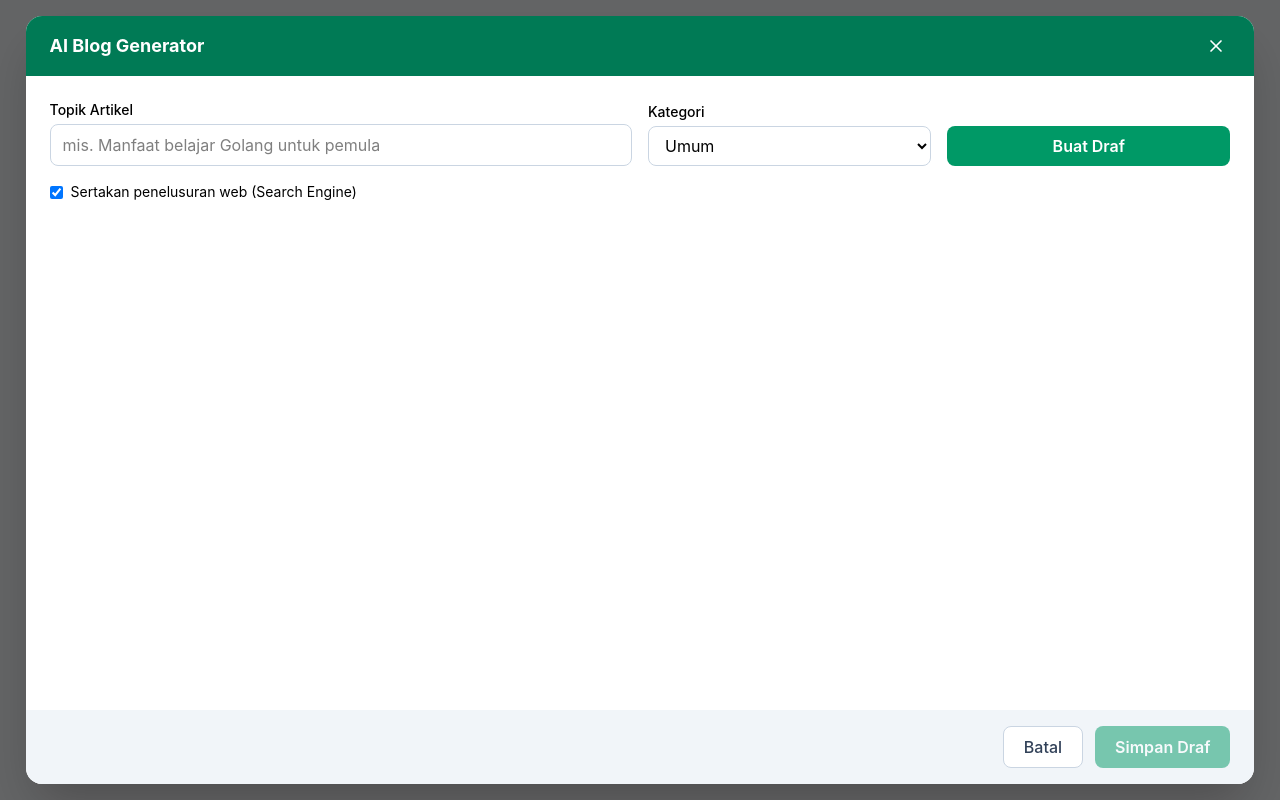
Test case: AiPostGeneratorModal › opsi search engine & kategori dikirim sesuai pilihan
The width and height of the screenshot is (1280, 800).
Select "Bisnis" in the dropdown labelled "Kategori" at (790, 146), box [648,126,931,166]
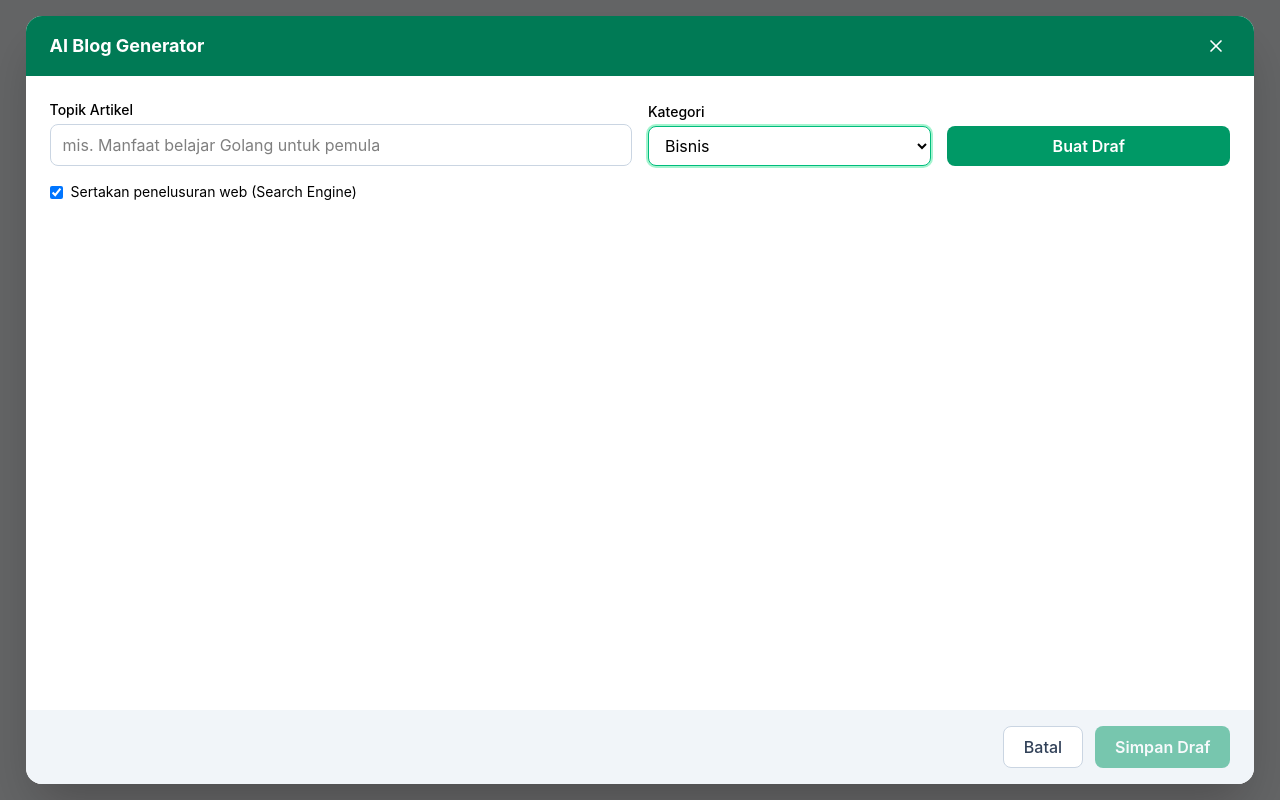
Click the checkbox labelled "Sertakan penelusuran web (Search Engine)" at (56, 192), box [50,186,63,198]
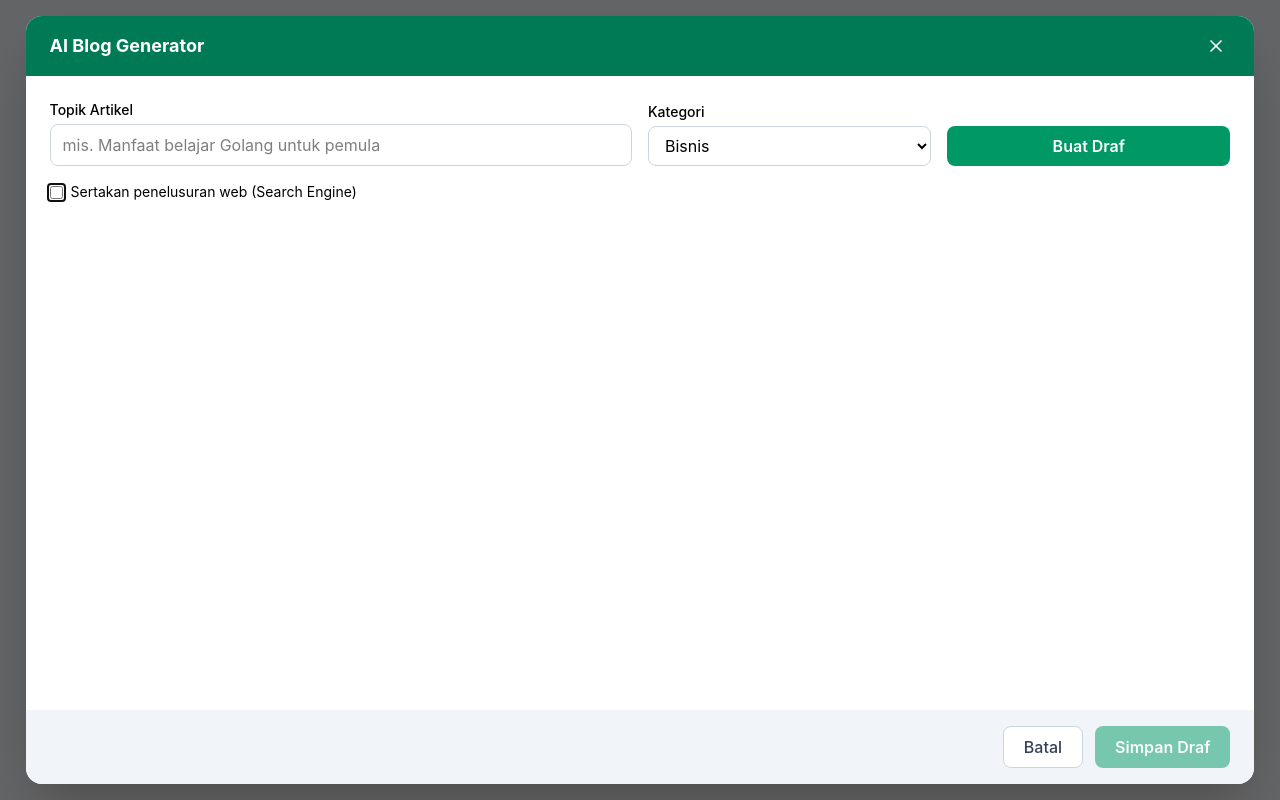
Type "Startup" into the field labelled "Topik Artikel" at (341, 145), box [50,124,632,166]
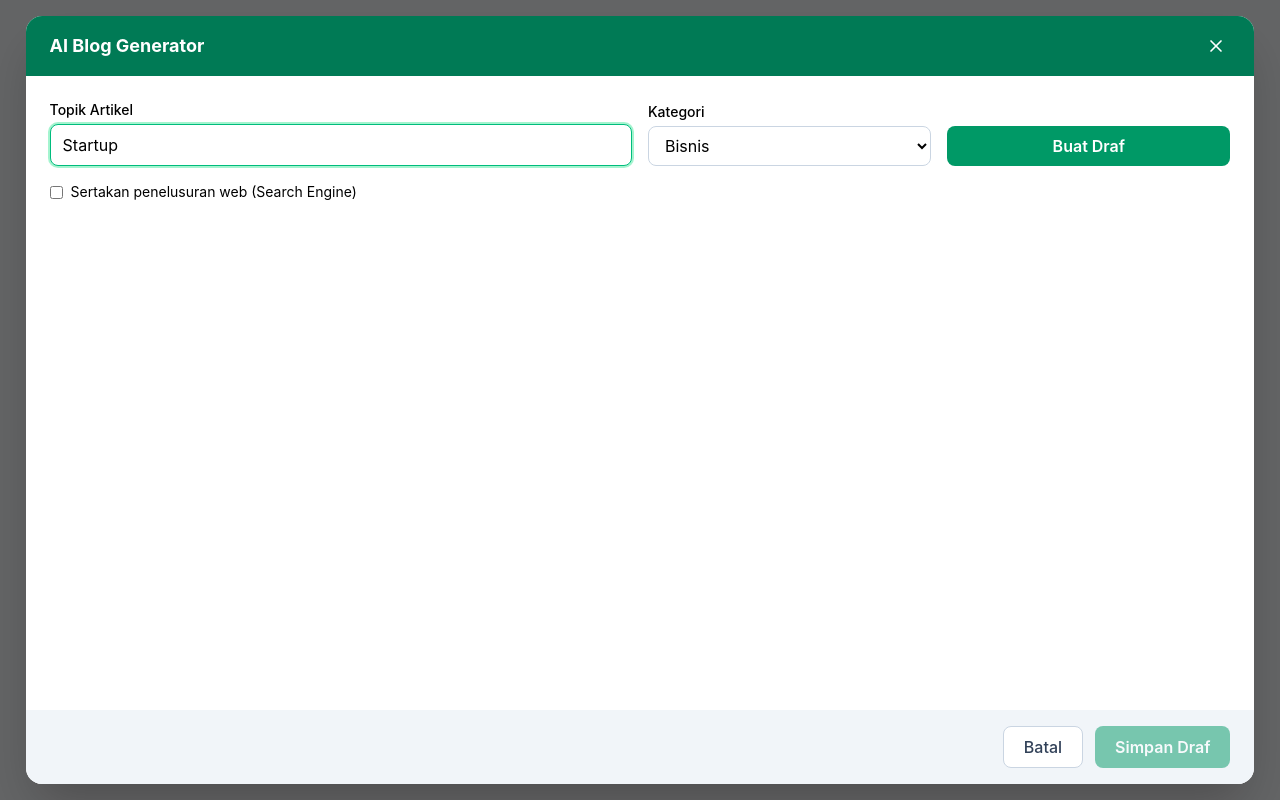
Click the button "Buat Draf" at (1089, 146), box [947,126,1230,166]
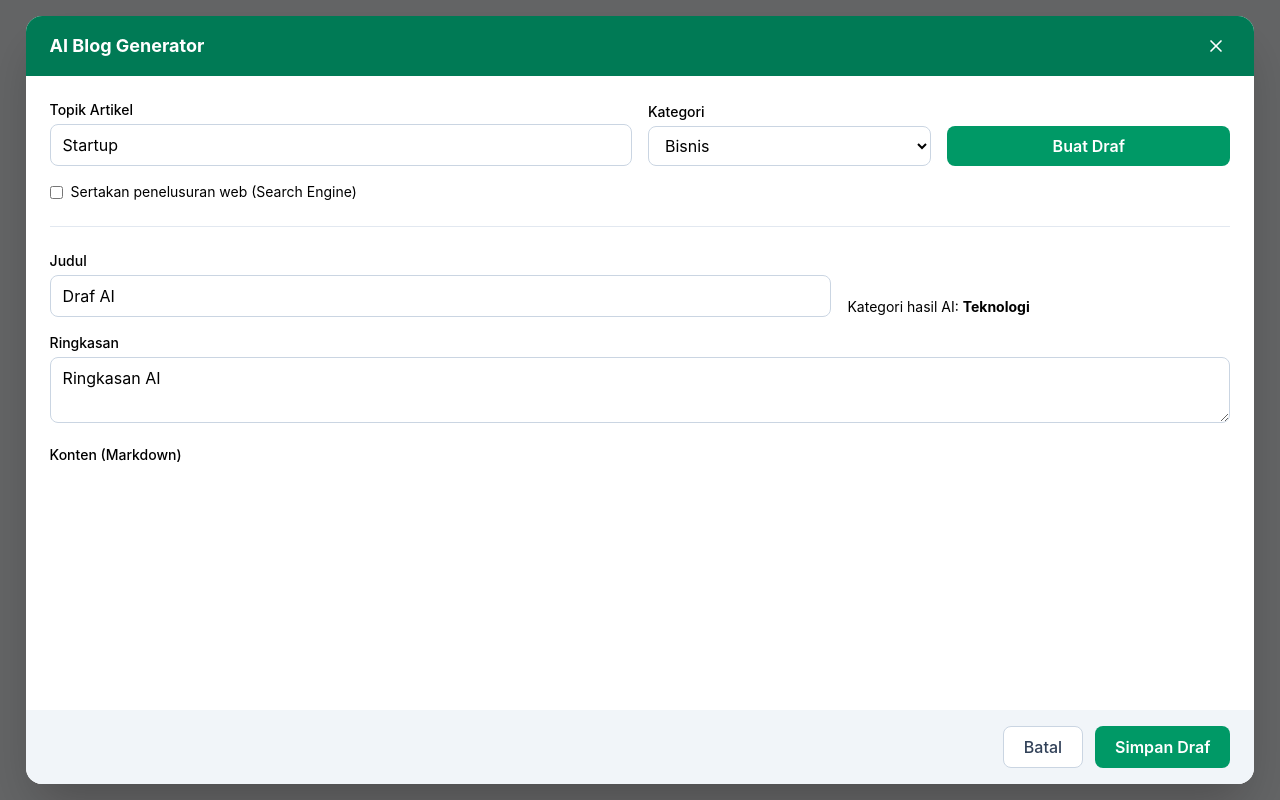
Now the field labelled "Judul" is shown, box [50,275,832,317]
